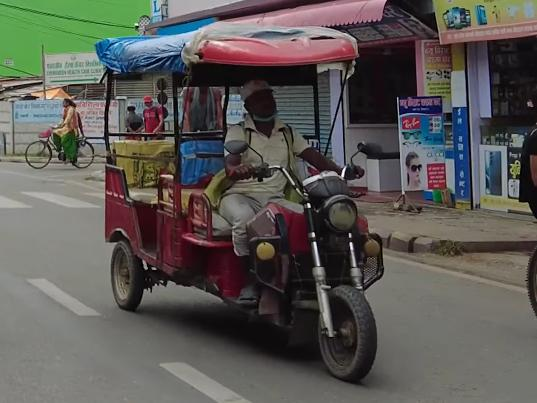e-rickshaw: (90, 16, 393, 381)
